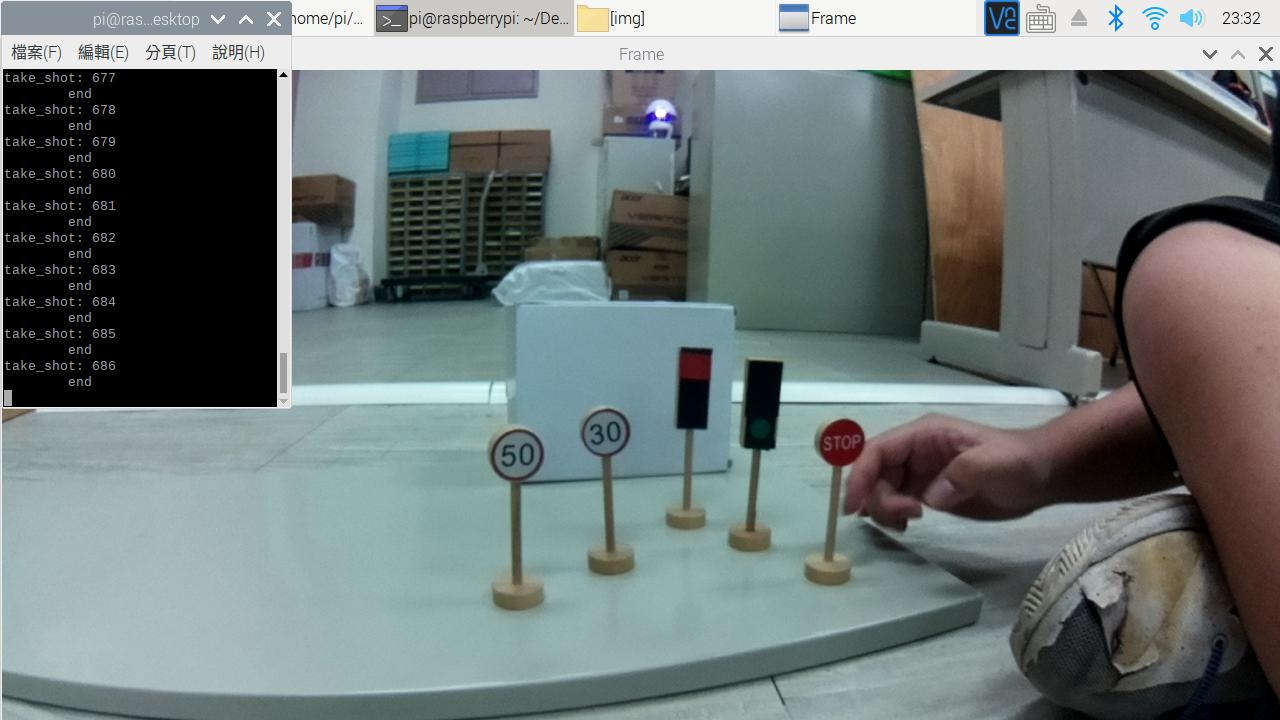Green: (734, 356, 791, 457)
Red: (669, 334, 709, 442)
Speed30: (574, 395, 638, 464)
Speed50: (478, 419, 547, 489)
Stop: (808, 404, 872, 468)
